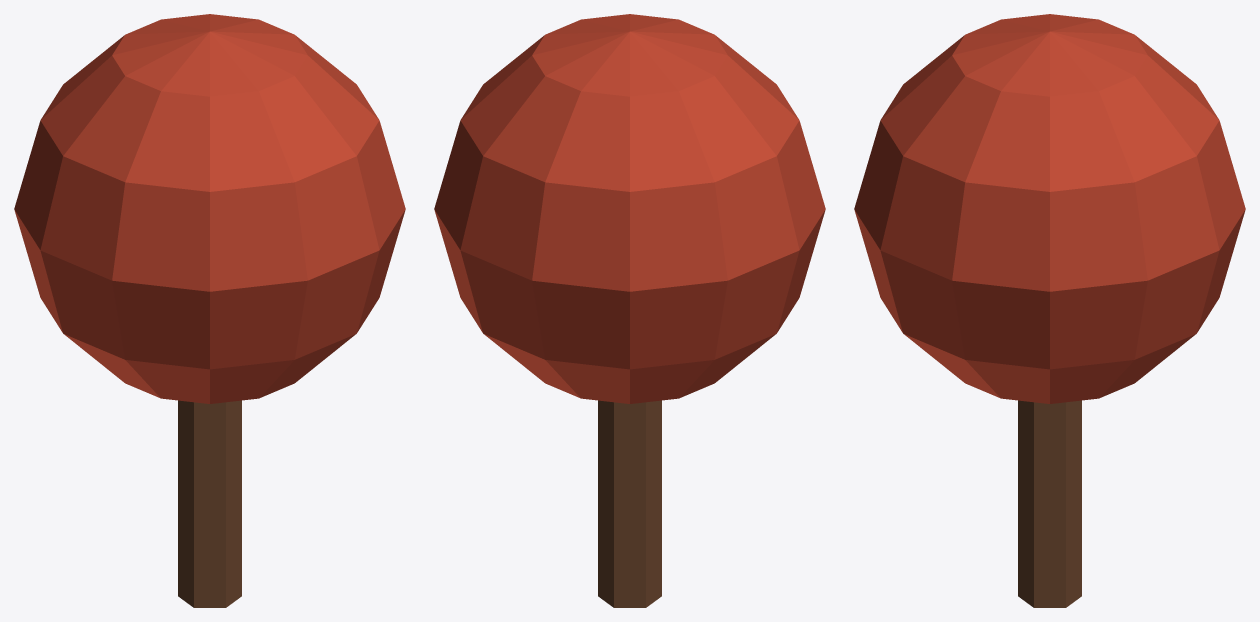
File: tree_red.glb
3 renders of one model, left to right at view 1: azimuth 30°, elevation 25°; view 2: azimuth 150°, elevation 25°; view 3: azimuth 270°, elevation 25°, orthographic.
Visible parts, largest first — view 1: tree_red; view 2: tree_red; view 3: tree_red.
Part boxes in pixels (<box>): tree_red: <box>14,14,405,607</box>; tree_red: <box>434,14,825,607</box>; tree_red: <box>854,14,1245,607</box>.
Bounding box in the file's own units: 0.22 × 0.35 × 0.22.
